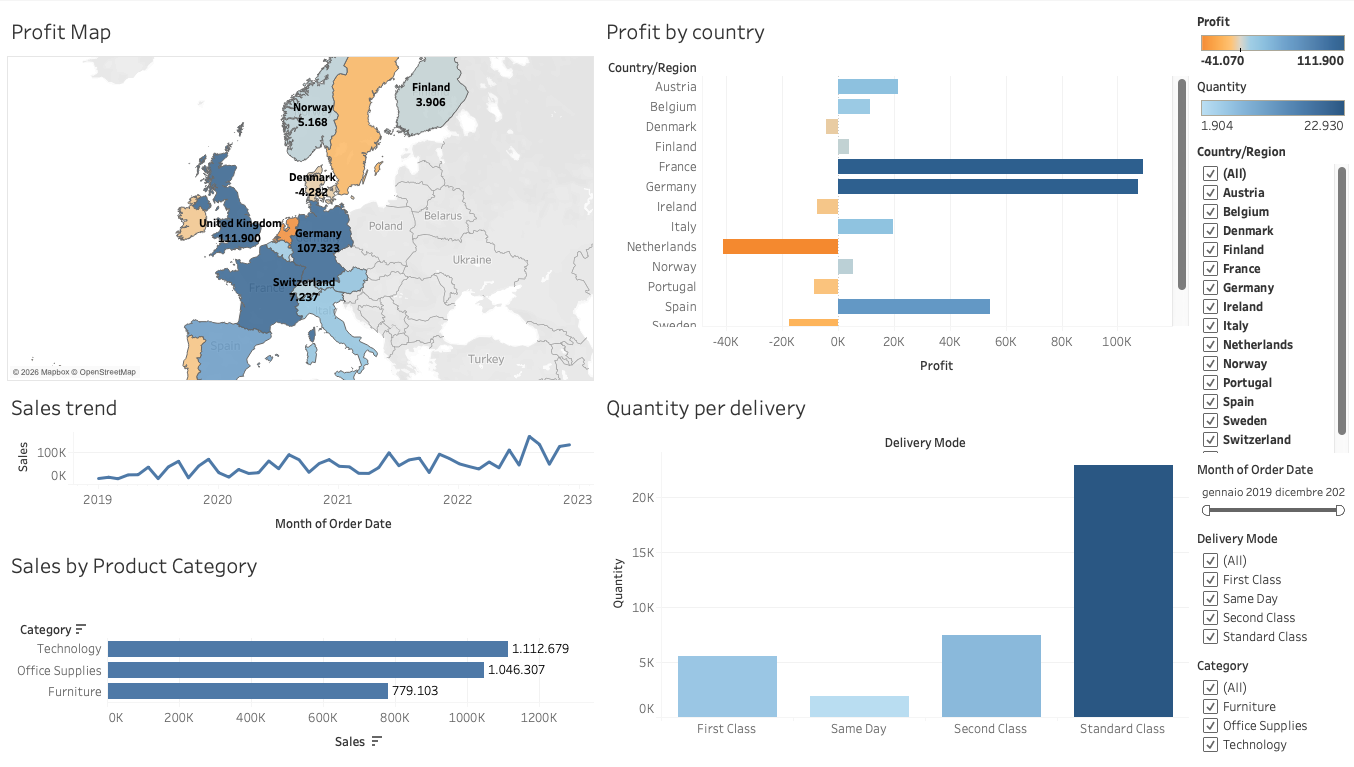

This screenshot's page, from the dashboard's own definition file:
{"tool":"tableau","page":{"name":"Dashboard 2","canvas":[1366,768],"ordinal":0},"visuals":[{"type":"worksheet","title":"Profit Map","mark":"Automatic","box":[8,8,595,376]},{"type":"worksheet","title":"Profit by country ","mark":"Automatic","rows":["Country/Region"],"cols":["Profit"],"box":[603,8,595,376]},{"type":"legend","title":"Profit Map","param":"[federated.0li70vo14ep2a110tlevk0crfg3s].[sum:Profit:qk]","box":[1198,8,160,65]},{"type":"legend","title":"Quantity per delivery","param":"[federated.0li70vo14ep2a110tlevk0crfg3s].[sum:Quantity:qk]","box":[1198,73,160,65]},{"type":"filter","title":"Profit Map","param":"[federated.0li70vo14ep2a110tlevk0crfg3s].[none:Country/Region:nk]","box":[1198,138,160,318]},{"type":"worksheet","title":"Sales trend","mark":"Automatic","rows":["Sales"],"cols":["Order Date"],"box":[8,384,595,158]},{"type":"worksheet","title":"Quantity per delivery","mark":"Automatic","rows":["Quantity"],"cols":["Delivery Mode"],"box":[603,384,595,376]},{"type":"filter","title":"Sales trend","param":"[federated.0li70vo14ep2a110tlevk0crfg3s].[tmn:Order Date:qk]","box":[1198,456,160,69]},{"type":"filter","title":"Quantity per delivery","param":"[federated.0li70vo14ep2a110tlevk0crfg3s].[none:Delivery Mode:nk]","box":[1198,525,160,127]},{"type":"worksheet","title":"Top product categories","mark":"Bar","rows":["Category"],"cols":["Sales"],"box":[8,542,595,218]},{"type":"filter","title":"Top product categories","param":"[federated.0li70vo14ep2a110tlevk0crfg3s].[none:Category:nk]","box":[1198,652,160,108]}]}

Visuals, with their boxes in screenshot pixels (x1, y1, x2, y2), scaled from the page's 1366x768 canvas onto the 1354x767 screenshot:
"Profit Map" worksheet: <box>8,8,598,384</box>
"Profit by country " worksheet: <box>598,8,1187,384</box>
"Profit Map" legend: <box>1187,8,1346,73</box>
"Quantity per delivery" legend: <box>1187,73,1346,138</box>
"Profit Map" filter: <box>1187,138,1346,455</box>
"Sales trend" worksheet: <box>8,384,598,541</box>
"Quantity per delivery" worksheet: <box>598,384,1187,759</box>
"Sales trend" filter: <box>1187,455,1346,524</box>
"Quantity per delivery" filter: <box>1187,524,1346,651</box>
"Top product categories" worksheet (Bar marks): <box>8,541,598,759</box>
"Top product categories" filter: <box>1187,651,1346,759</box>
